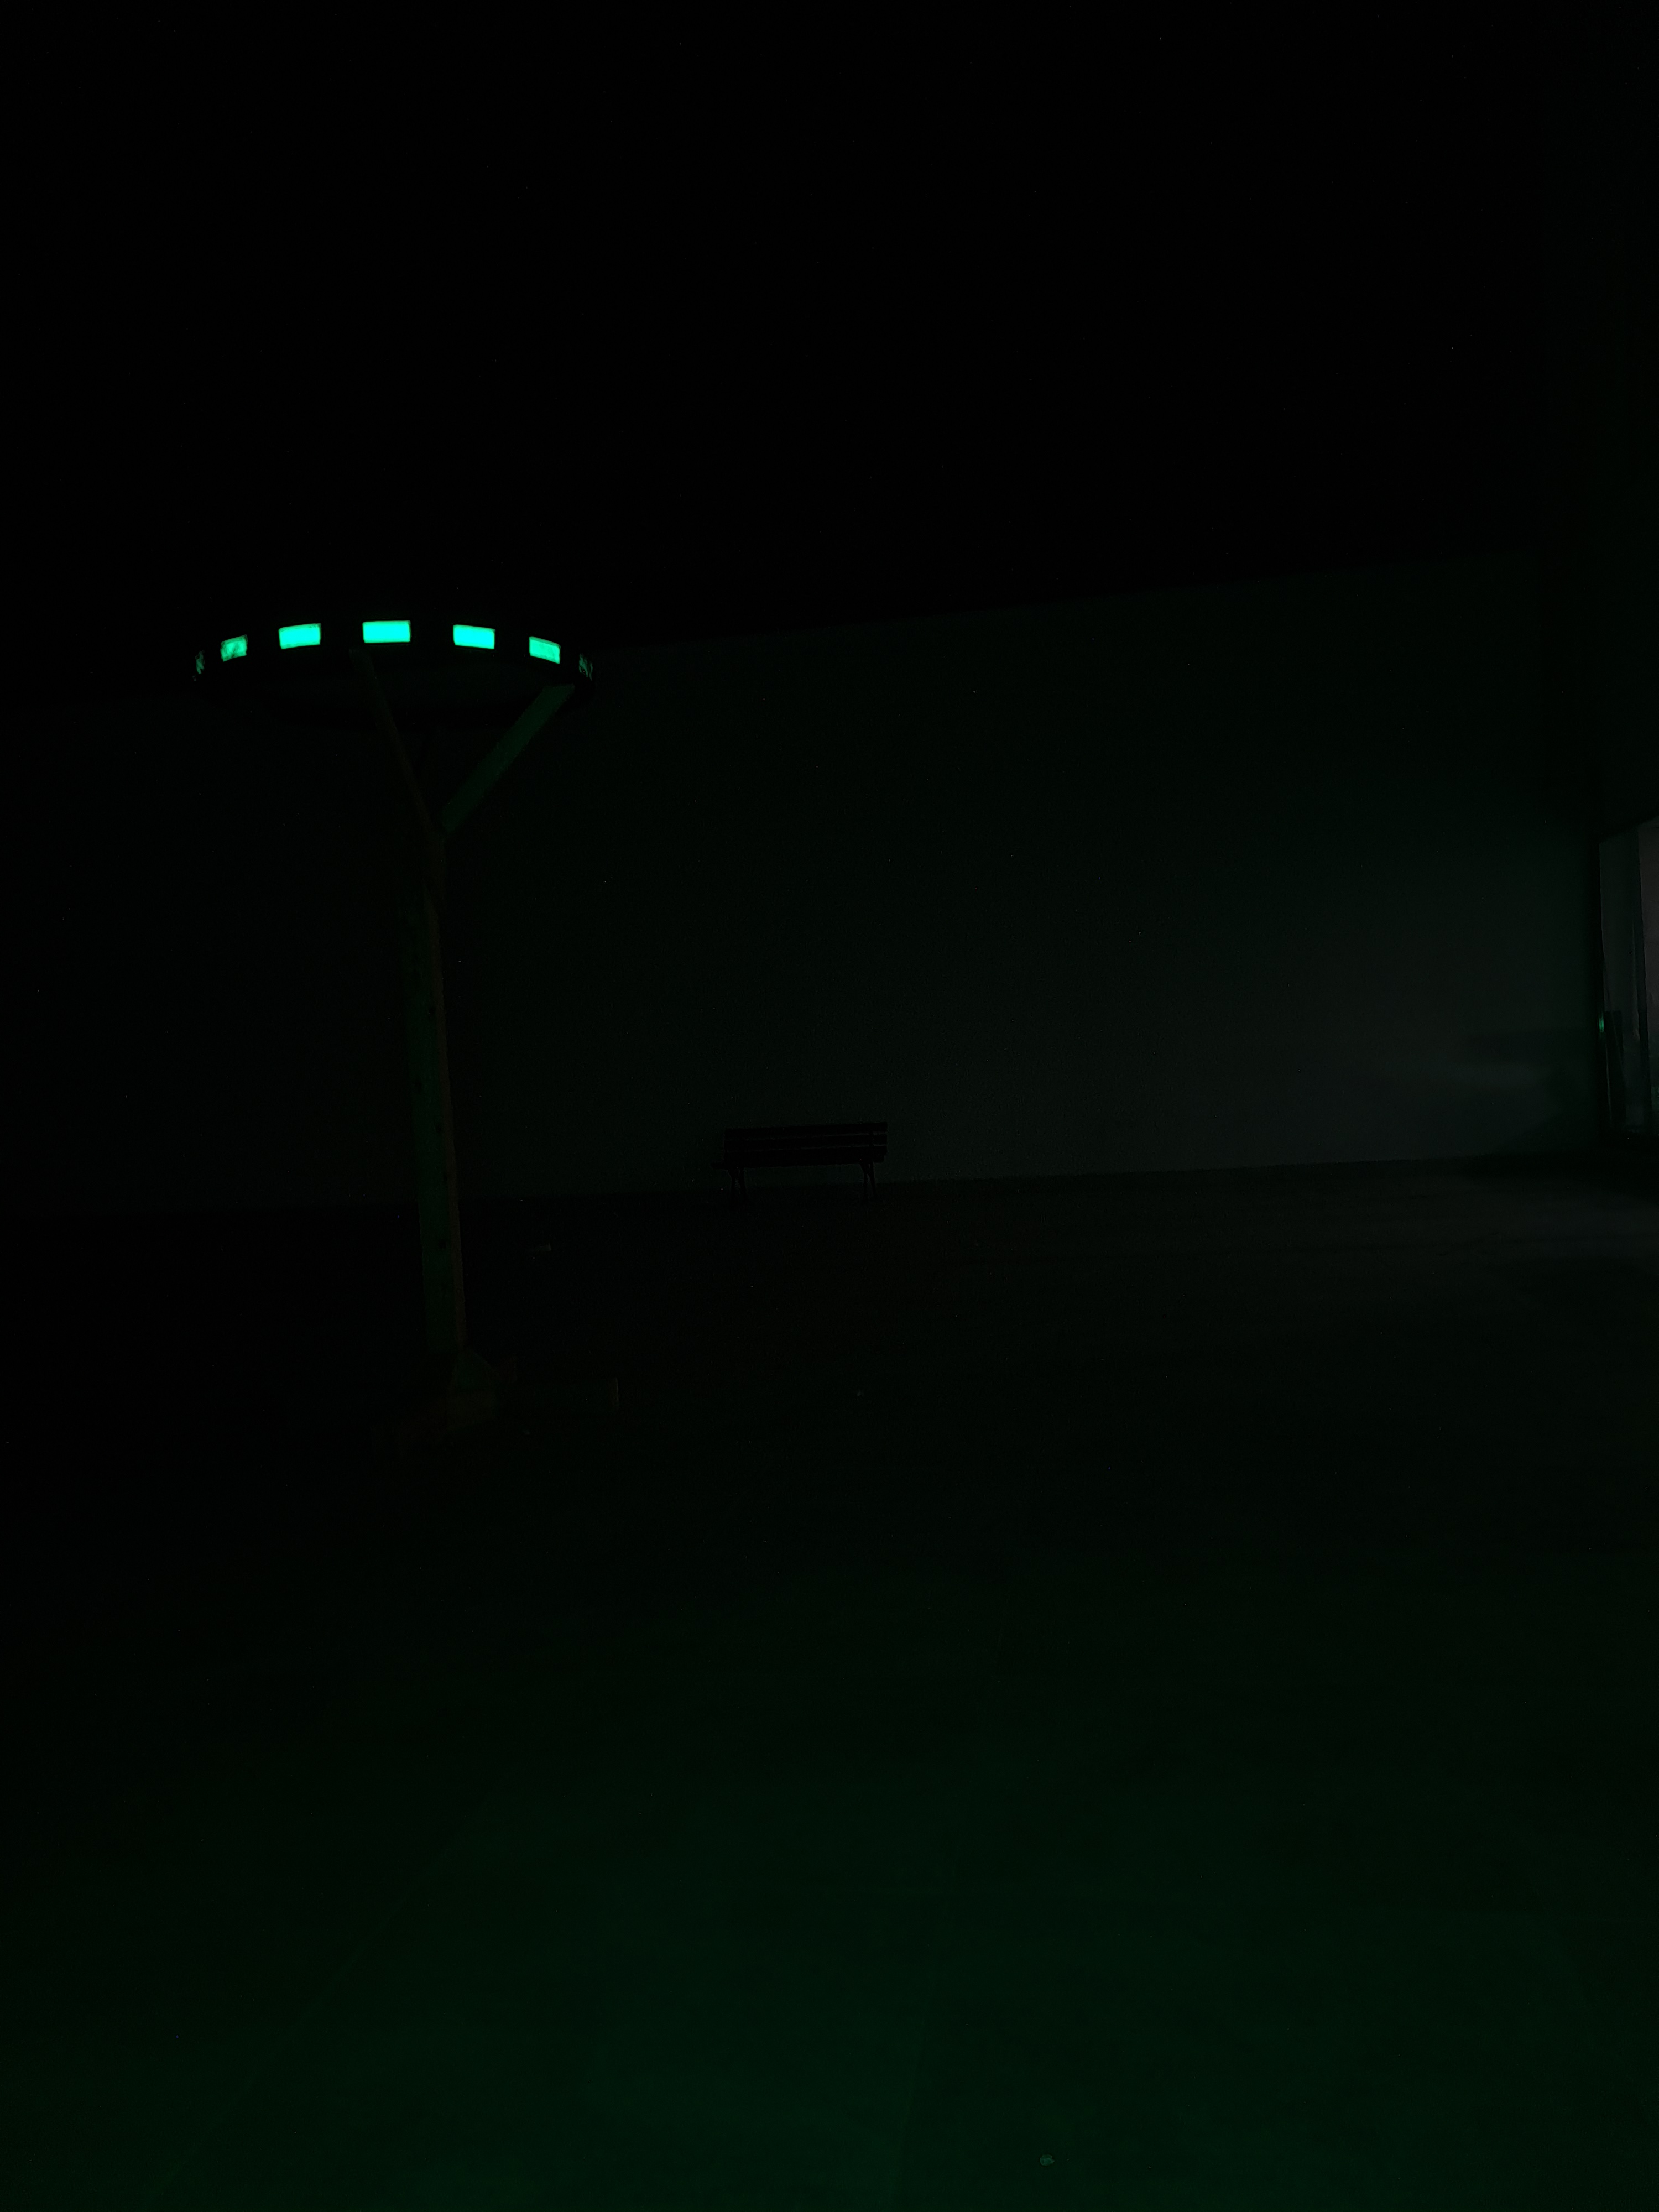hoop: (197, 613, 592, 683)
